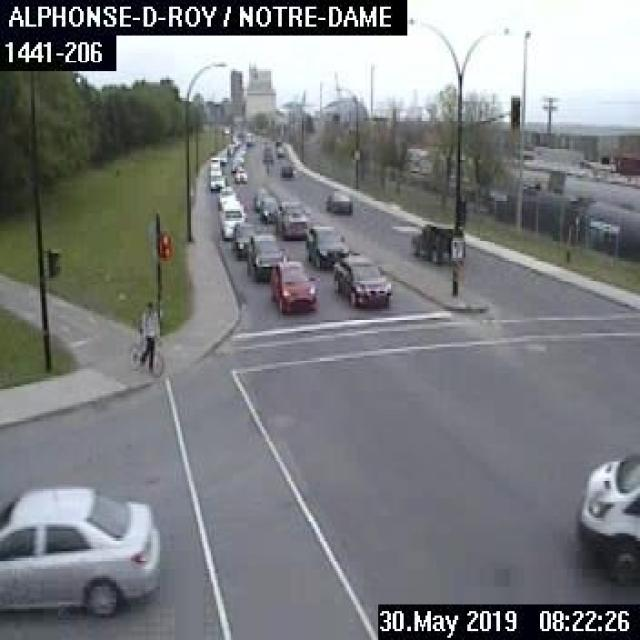cyclist: (128, 294, 162, 376)
vehicle: (0, 484, 158, 616), (576, 449, 638, 587), (330, 250, 392, 312), (406, 218, 469, 262), (270, 256, 317, 311), (304, 220, 352, 270), (244, 227, 284, 280), (273, 196, 312, 235), (322, 188, 354, 217), (219, 204, 245, 239), (232, 220, 256, 256), (257, 196, 278, 222), (207, 171, 228, 193), (232, 164, 249, 184), (253, 188, 268, 210), (272, 136, 286, 158), (280, 162, 291, 176)
